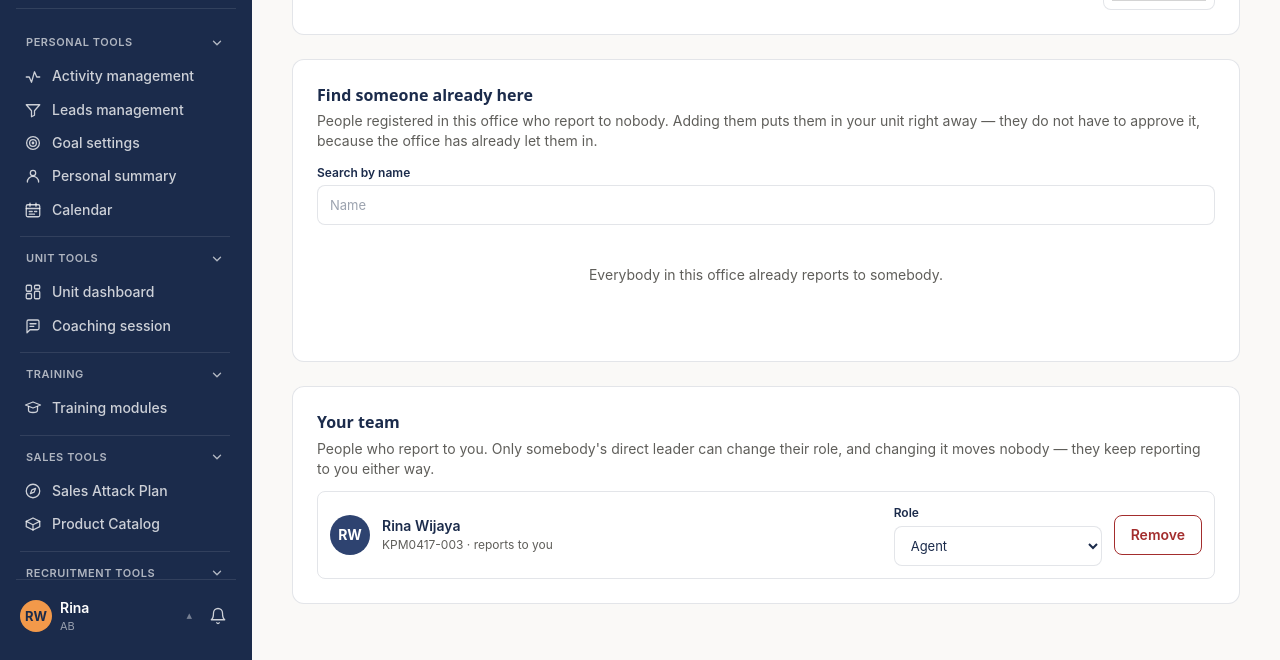
Scenario: inviting people (P3-T4) › changing a role (P3-T6) › explains the change in the prototype own words before confirming
The image size is (1280, 660).
(page scrolled)
Select "Associate Agency Builder" in the dropdown labelled "Role" at point(998, 546), box [894, 526, 1102, 566]
(page scrolled)
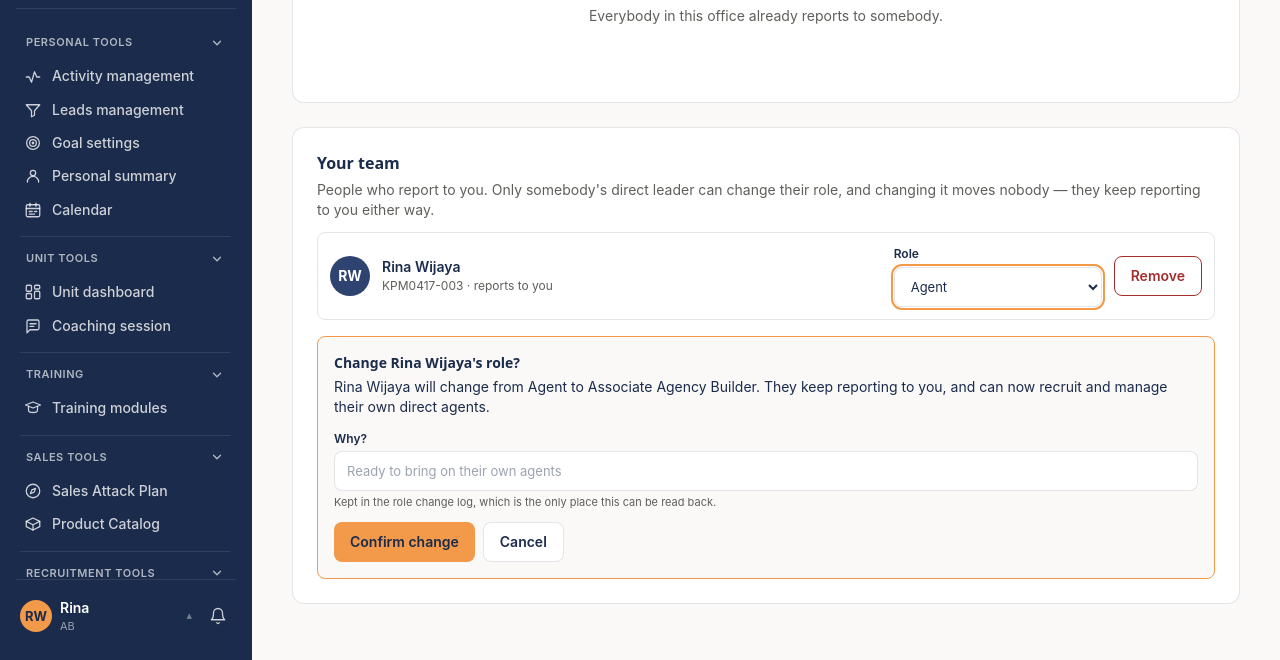
Result: the text "can now recruit and manage their own direct agents" shows "They keep reporting to you" at [334, 378, 1168, 415]
Result: the text "can now recruit and manage their own direct agents" shows "Rina Wijaya" at [334, 378, 1168, 415]
